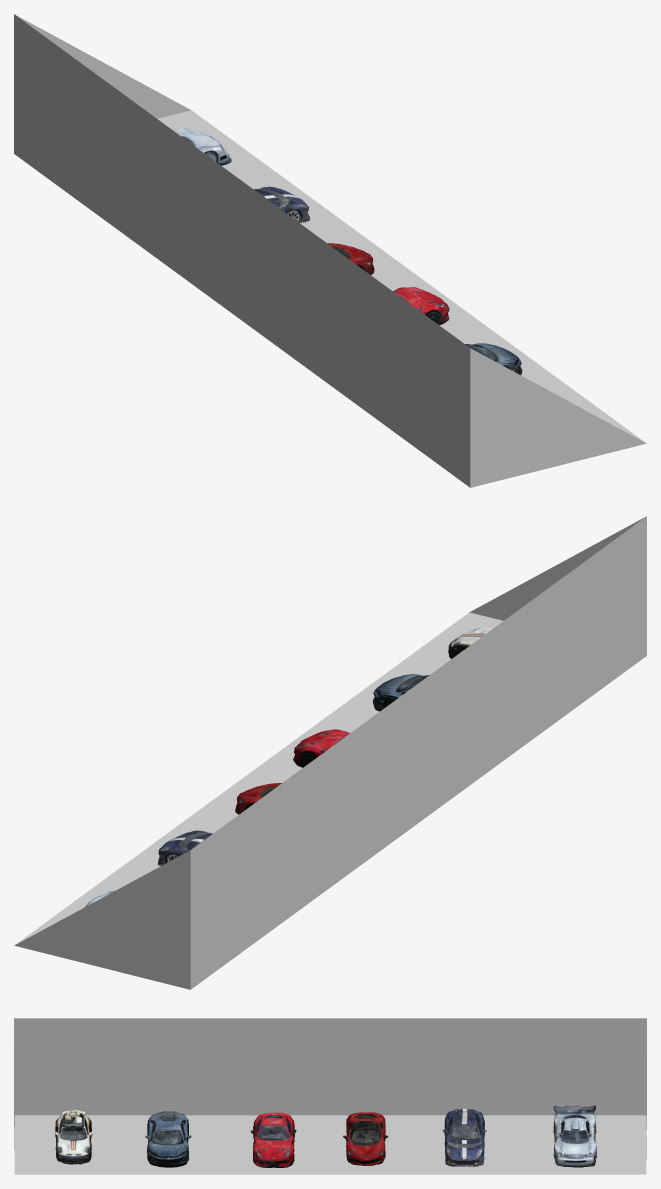
File: garage_small-v1.glb
The picture shows the model from 3 angles, top to bottom: view 1: azimuth 30°, elevation 25°; view 2: azimuth 150°, elevation 25°; view 3: azimuth 270°, elevation 25°; orthographic projection. The views are drawn at different scales.
Parts seen in each view (by area): view 1: Cube, f12, 812.001, clk, Temerario; view 2: Cube, f12, Temerario, 812.001; view 3: Cube, clk, 812.001, Temerario, f12, SF90, Dakar.
Part boxes in pixels (<box>): Cube: <box>14,14,646,487</box>; f12: <box>393,287,449,325</box>; 812.001: <box>254,186,309,223</box>; clk: <box>174,128,231,165</box>; Temerario: <box>465,343,522,375</box>; Cube: <box>14,516,646,989</box>; f12: <box>293,729,349,767</box>; Temerario: <box>372,674,429,711</box>; 812.001: <box>157,830,212,865</box>; Cube: <box>14,1018,646,1174</box>; clk: <box>553,1105,596,1167</box>; 812.001: <box>442,1108,486,1166</box>; Temerario: <box>145,1111,191,1167</box>; f12: <box>250,1112,296,1167</box>; SF90: <box>343,1112,388,1165</box>; Dakar: <box>55,1110,92,1164</box>.
Size of the model in its own units: 4.75 by 3.7 by 21.2.
Materials: 11 (6 with a texture image).
